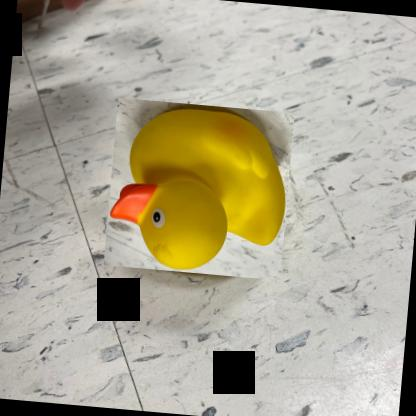duck: (104, 98, 294, 280)
